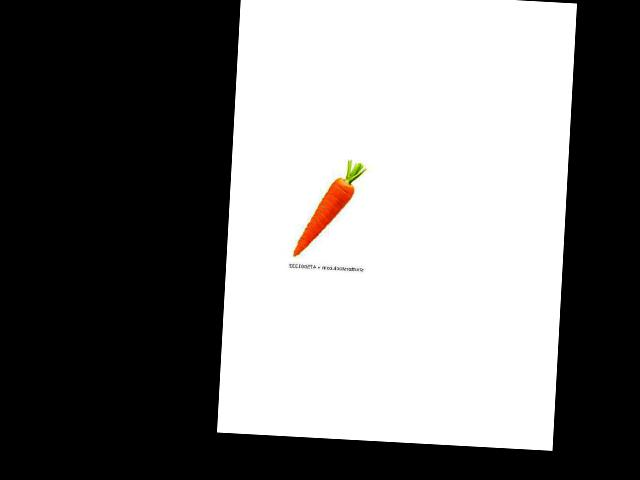carrot: (289, 173, 356, 263)
